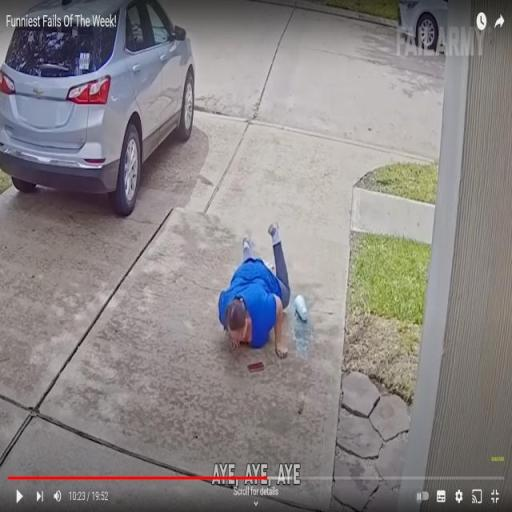Fall: (216, 219, 293, 364)
